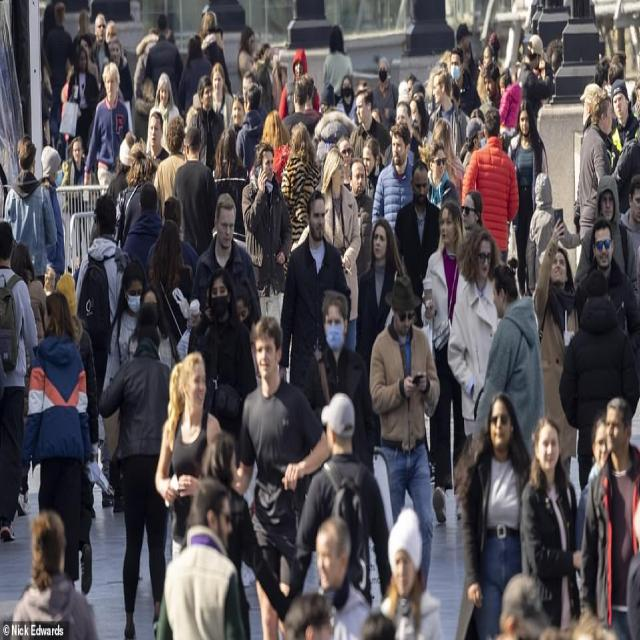Walking: (235, 322, 327, 628), (281, 388, 390, 635), (97, 302, 172, 633), (20, 294, 93, 596), (373, 279, 441, 580), (192, 260, 256, 574), (457, 391, 533, 640), (559, 278, 639, 500), (153, 478, 254, 640), (76, 200, 129, 500), (472, 240, 544, 456), (418, 201, 466, 505), (156, 346, 221, 566), (276, 196, 346, 392), (521, 412, 583, 633), (307, 286, 378, 475), (583, 399, 640, 634), (531, 224, 581, 476), (446, 224, 501, 447), (11, 507, 100, 635), (0, 227, 36, 543), (314, 146, 362, 346), (192, 196, 260, 330), (241, 144, 291, 326), (381, 506, 447, 640), (463, 110, 520, 258), (576, 178, 639, 302), (508, 102, 548, 296), (392, 158, 440, 312), (316, 512, 373, 638), (3, 160, 58, 284), (356, 221, 400, 374), (147, 222, 196, 358), (104, 258, 150, 392), (572, 101, 612, 251), (613, 178, 640, 399), (526, 174, 574, 298), (279, 127, 317, 278), (85, 67, 129, 193), (576, 412, 611, 558), (173, 130, 214, 252), (372, 123, 417, 231), (210, 130, 250, 248), (44, 3, 74, 146), (141, 18, 185, 114), (122, 176, 164, 276), (60, 136, 94, 259), (64, 46, 100, 156), (11, 243, 48, 347), (425, 68, 467, 157), (495, 573, 551, 639), (155, 117, 188, 221), (161, 200, 199, 288), (350, 86, 390, 163), (189, 80, 223, 170), (178, 35, 213, 121), (106, 34, 135, 134), (103, 142, 135, 230), (348, 154, 374, 259), (282, 50, 318, 120), (236, 88, 265, 173), (201, 14, 231, 96), (150, 75, 182, 151), (322, 24, 353, 101), (259, 110, 291, 184), (282, 592, 332, 639), (423, 138, 456, 209), (609, 82, 637, 160), (371, 56, 398, 130), (498, 69, 523, 148), (144, 111, 172, 181), (210, 65, 233, 130), (480, 61, 504, 120), (461, 118, 487, 172), (407, 92, 430, 151), (90, 12, 110, 79), (72, 9, 96, 64), (362, 138, 384, 198), (236, 26, 256, 90), (335, 76, 359, 120), (460, 187, 482, 234), (335, 139, 353, 189)
human: (235, 282, 260, 340), (17, 135, 36, 172), (200, 11, 218, 44)
loitering: (613, 121, 640, 210), (517, 33, 547, 94), (456, 23, 478, 91), (545, 41, 563, 93)
